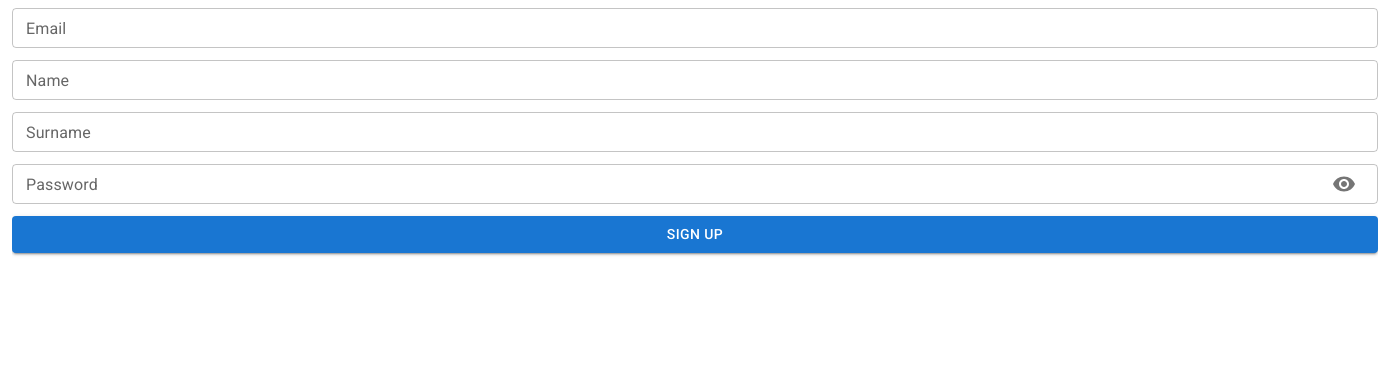
Scenario: AuthForm › shows validation errors on submit with empty fields
What coordinates should you click on to do the following:
click the button "Sign up"
I would click on:
 (695, 234)
Its box is [12, 216, 1378, 252].
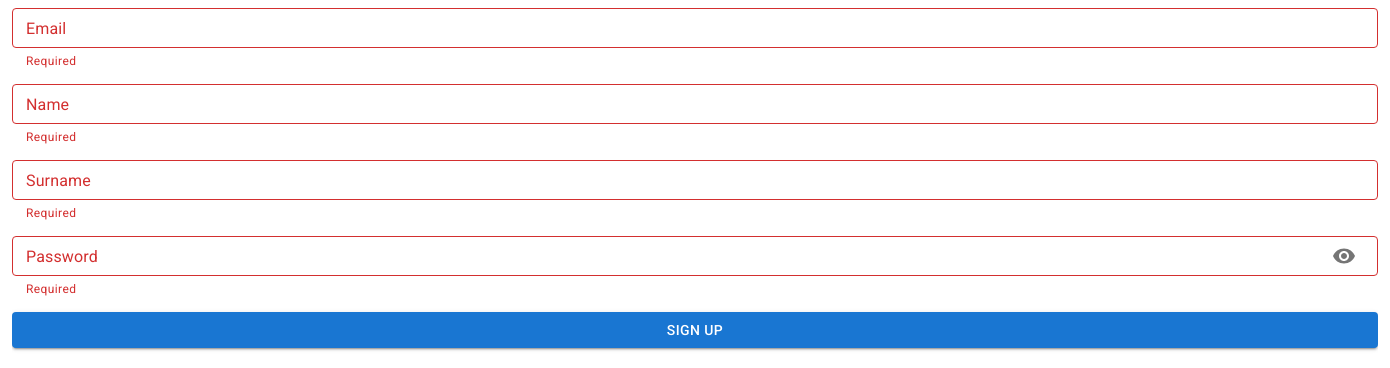
Expected: the text "Required" is shown 4 times, [26, 54, 76, 68]; [26, 130, 76, 144]; [26, 206, 76, 220]; [26, 282, 76, 296]
